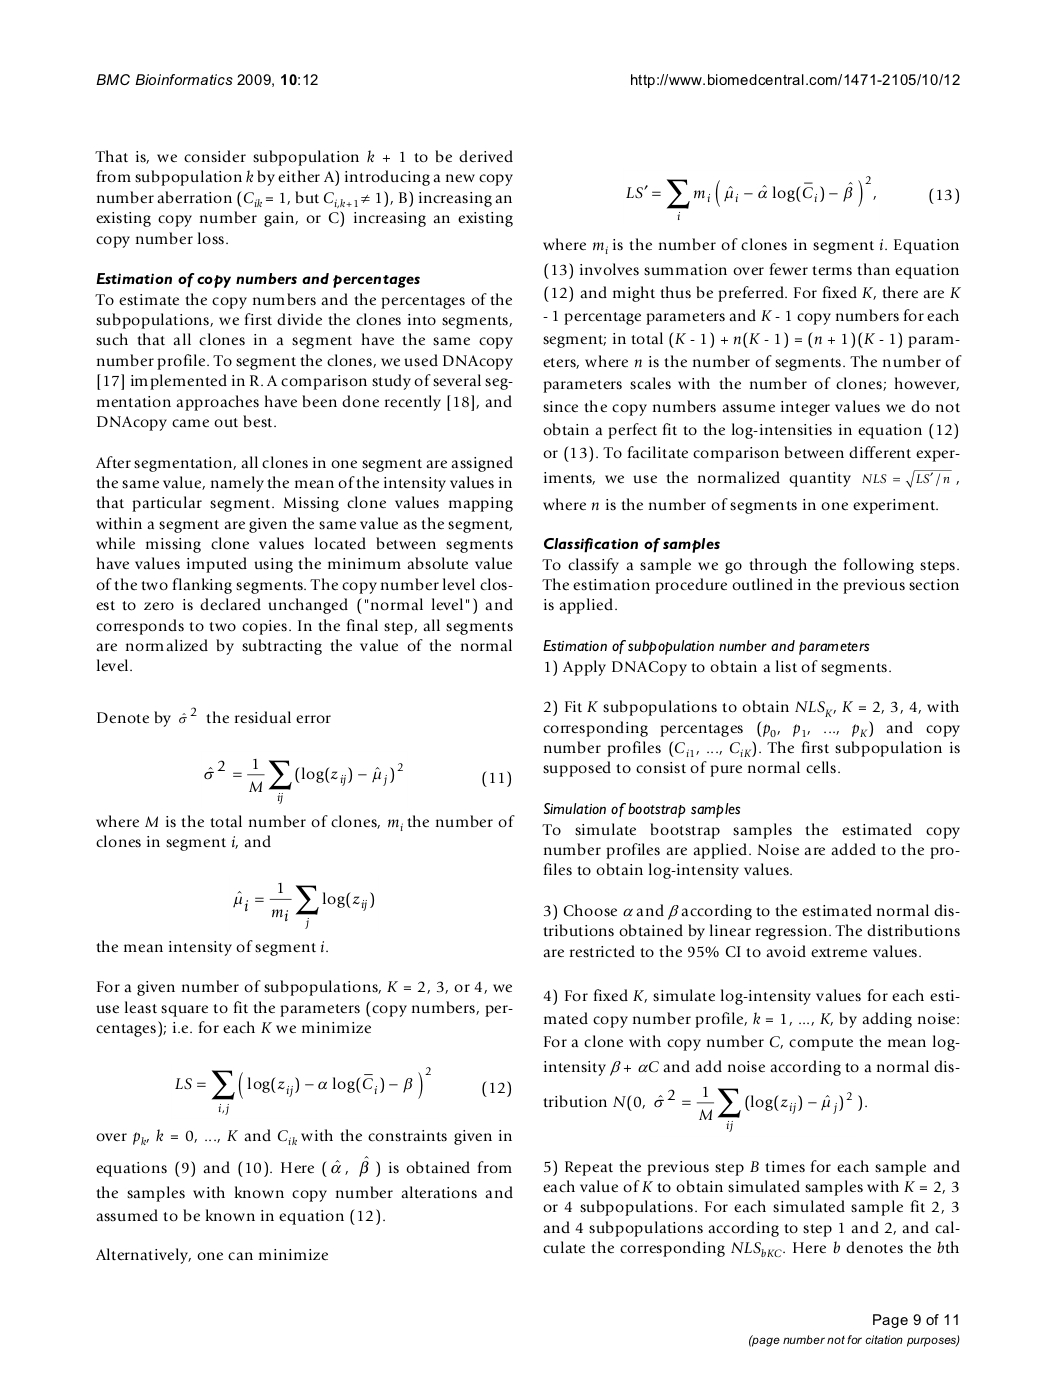formula: (175, 1067, 512, 1114), (626, 176, 958, 220), (204, 758, 512, 804), (233, 882, 374, 929)
